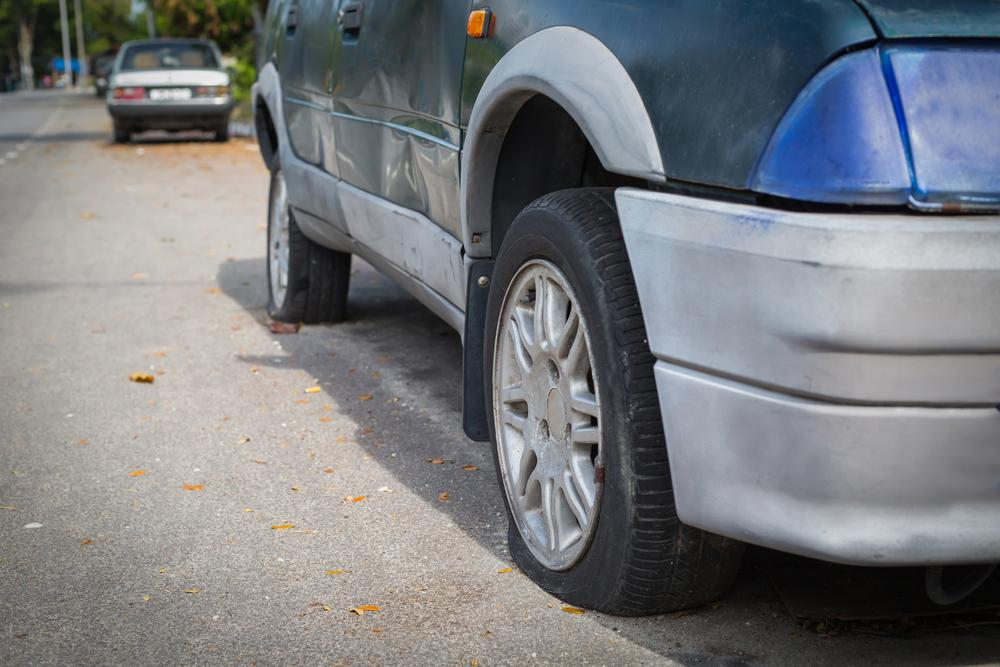dent: (368, 137, 461, 276)
tire flat: (486, 185, 747, 620), (266, 146, 354, 322)
